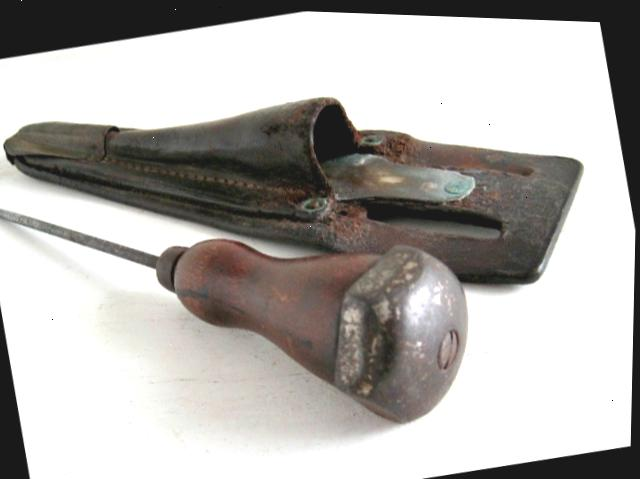ice pick: (0, 117, 491, 479)
